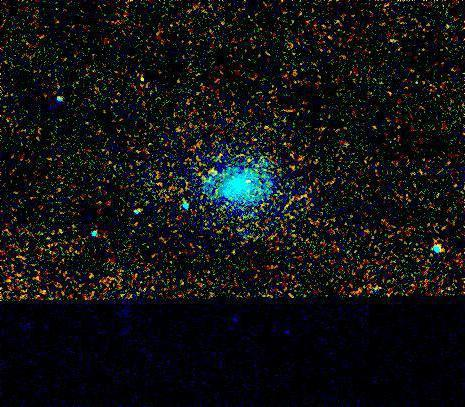star: (195, 157, 225, 187)
